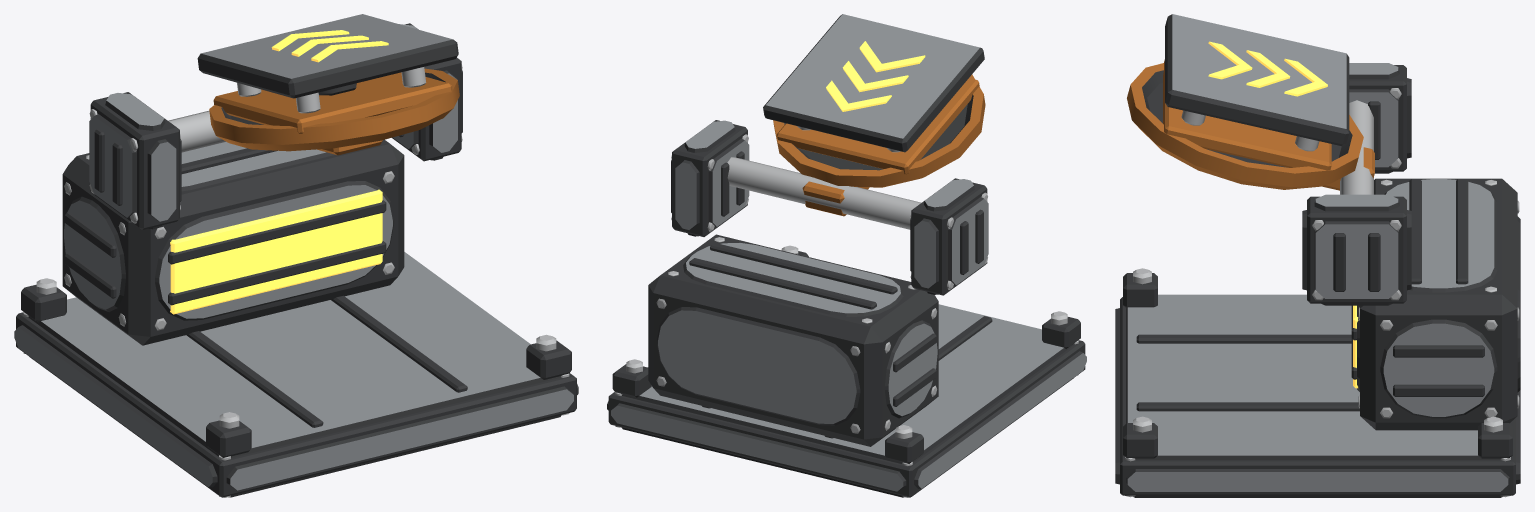
Rendered from R4X_KnockbackTrapDeployer.fbx.
3 views of the same model, side by side, from view 1: azimuth 30°, elevation 25°; view 2: azimuth 150°, elevation 25°; view 3: azimuth 270°, elevation 25° (orthographic). The views are drawn at different scales.
Visible parts, largest first — view 1: R4X_KnockbackTrapDeployer_Body, R4X_KnockbackTrapDeployer_Payload; view 2: R4X_KnockbackTrapDeployer_Body, R4X_KnockbackTrapDeployer_Payload; view 3: R4X_KnockbackTrapDeployer_Body, R4X_KnockbackTrapDeployer_Payload.
Part boxes in pixels (x1,y1,x2,y2): R4X_KnockbackTrapDeployer_Body: [14, 23, 578, 497]; R4X_KnockbackTrapDeployer_Payload: [197, 14, 458, 133]; R4X_KnockbackTrapDeployer_Body: [607, 74, 1086, 497]; R4X_KnockbackTrapDeployer_Payload: [763, 14, 984, 174]; R4X_KnockbackTrapDeployer_Body: [1115, 63, 1520, 497]; R4X_KnockbackTrapDeployer_Payload: [1163, 14, 1349, 170].
Size of the model in its own units: 0.52 by 0.5172 by 0.52.
